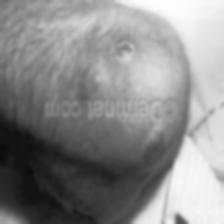Unclassified: (110, 31, 136, 66), (72, 69, 100, 100)
